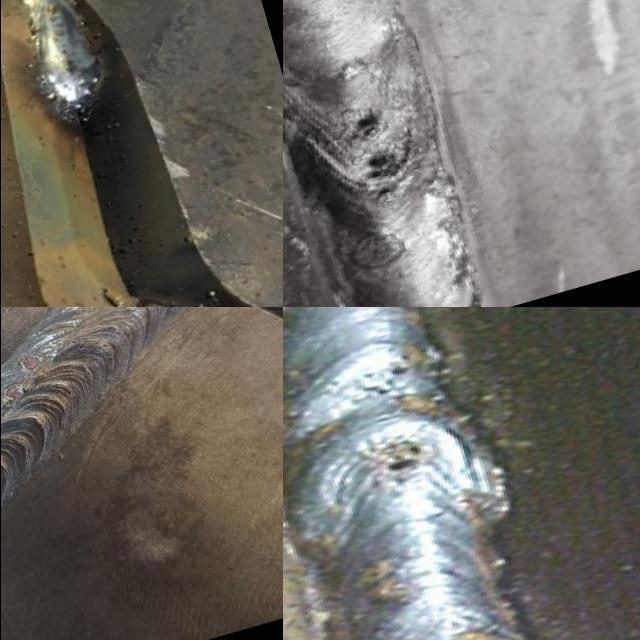defect: (353, 144, 418, 206), (358, 356, 427, 405), (338, 105, 394, 146), (376, 440, 431, 480), (2, 380, 32, 403), (20, 351, 45, 375)
